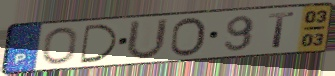9: (225, 13, 257, 53)
D: (79, 22, 121, 65)
O: (168, 16, 208, 59), (41, 26, 79, 66)
T: (267, 10, 297, 49)
U: (124, 17, 171, 62)
